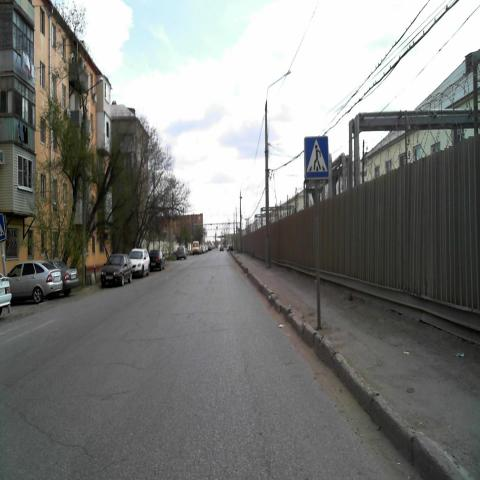5_19_1: (304, 136, 330, 180)
